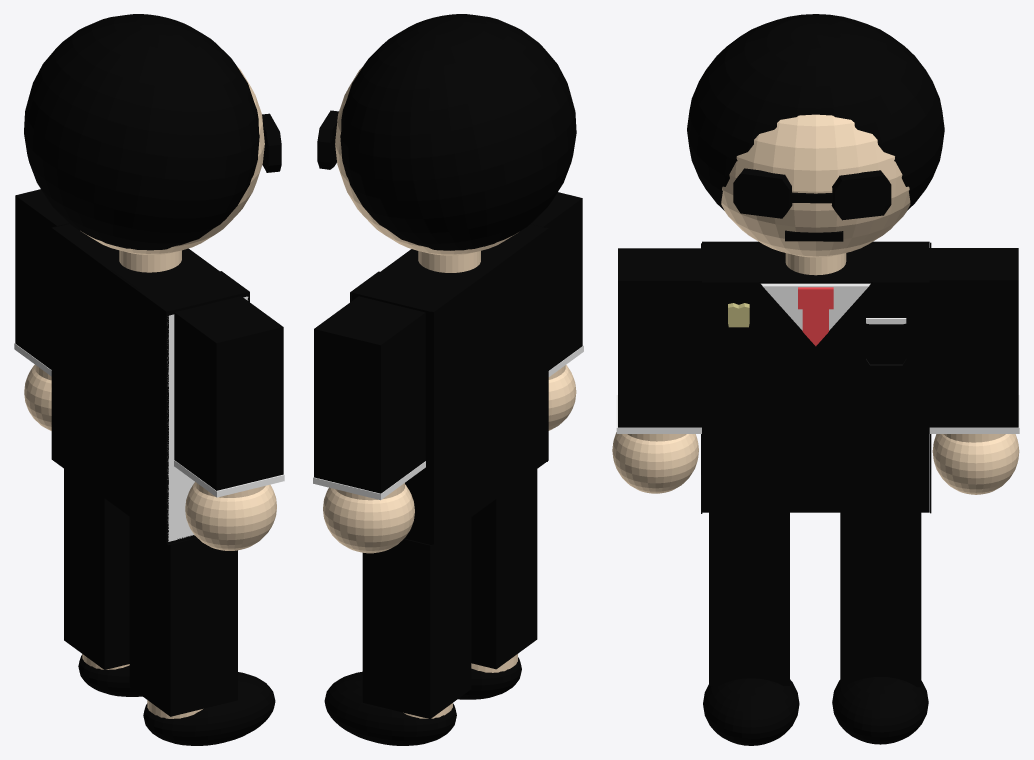
Rendered from Agent1(conjoined).fbx.
3 renders of one model, left to right at view 1: azimuth 30°, elevation 25°; view 2: azimuth 150°, elevation 25°; view 3: azimuth 270°, elevation 25°, orthographic.
Visible parts, largest first — view 1: Sphere.001, Sphere.018, Cube.009, Cube.021, Cube.020; view 2: Sphere.001, Sphere.018, Cube.009, Cube.020, Cube.021; view 3: Cube.009, Sphere.001, Sphere.018, Cube.020, Cube.021.
Boxes of the visible parts, bbox=[...] form: Sphere.001: bbox=[24, 14, 281, 272]; Sphere.018: bbox=[64, 469, 275, 745]; Cube.009: bbox=[51, 223, 249, 545]; Cube.021: bbox=[174, 296, 284, 550]; Cube.020: bbox=[14, 189, 68, 430]; Sphere.001: bbox=[317, 14, 576, 272]; Sphere.018: bbox=[324, 469, 537, 745]; Cube.009: bbox=[350, 224, 548, 545]; Cube.020: bbox=[313, 296, 425, 553]; Cube.021: bbox=[531, 192, 583, 430]; Cube.009: bbox=[701, 241, 931, 513]; Sphere.001: bbox=[687, 14, 944, 275]; Sphere.018: bbox=[703, 512, 928, 745]; Cube.020: bbox=[929, 248, 1019, 494]; Cube.021: bbox=[612, 248, 701, 493].
Size of the model in its own units: 216 by 670 by 357.
